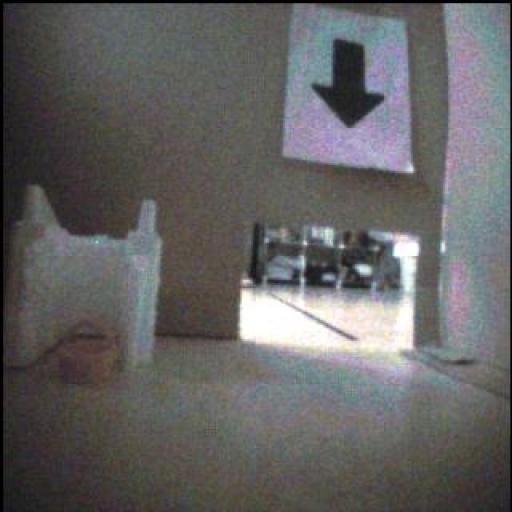arrow: (313, 41, 385, 129)
